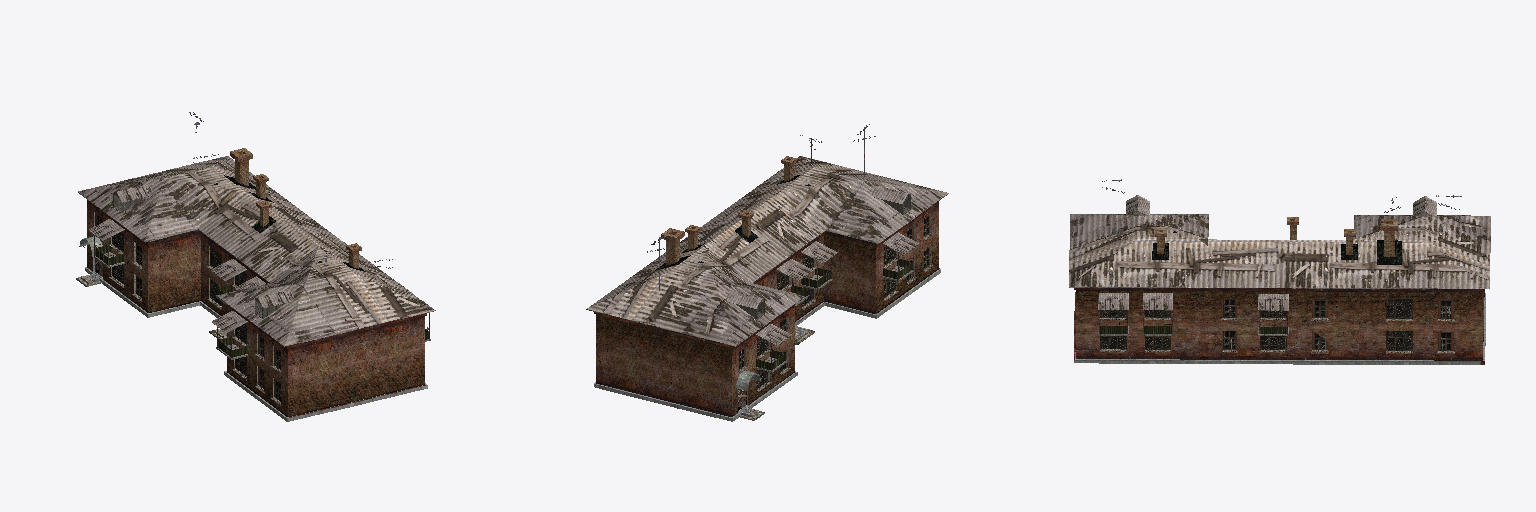
The picture shows the model from 3 angles: view 1: azimuth 30°, elevation 25°; view 2: azimuth 150°, elevation 25°; view 3: azimuth 270°, elevation 25°; orthographic projection.
Parts seen in each view (by area): view 1: building; view 2: building; view 3: building.
Boxes of the visible parts, x1,y1,x2,y2 form: building: [76, 112, 435, 421]; building: [586, 124, 948, 421]; building: [1069, 179, 1490, 364].
Size of the model in its own units: 186 by 145 by 376.
Materials: 5 (5 with a texture image).